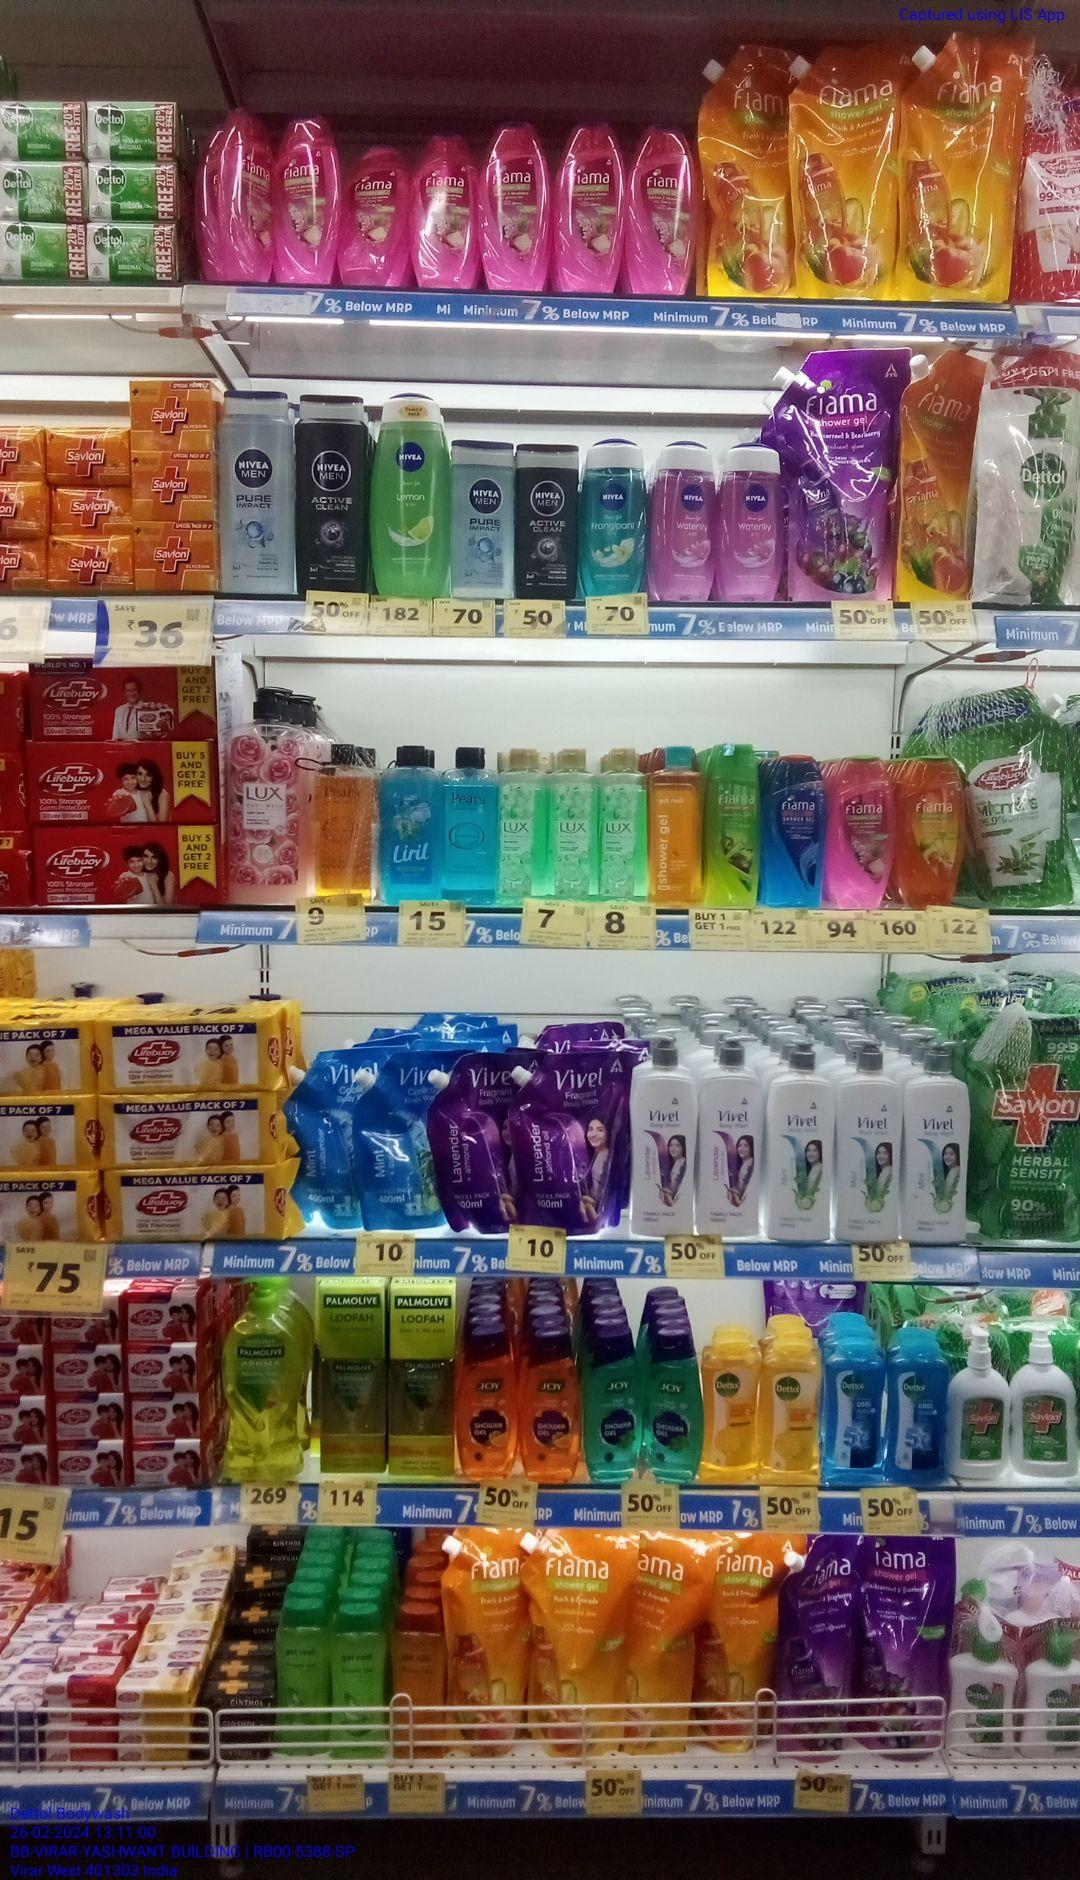Dettol_Bodywash_Cool: (889, 1336, 948, 1486), (829, 1344, 885, 1490)
Dettol_Bodywash_Refresh: (762, 1335, 823, 1487), (707, 1330, 760, 1490)
Fiama_Shower_Gel_Lemongrass_and_Jojoba_250ML: (705, 739, 760, 909)
Fiama_Shower_Gel_Patchouli_and_Macadamia_250ML: (482, 127, 552, 291), (629, 123, 694, 300), (559, 114, 621, 296), (275, 108, 337, 285), (828, 753, 897, 910), (410, 130, 475, 285), (345, 134, 408, 291), (222, 102, 273, 288)
Fiama_Shower_Gel_Peach_and_Avocado_250ML: (902, 753, 966, 909)
Get_Real_Shower_Gel_Moisturising_Glycerin_300ML: (389, 1605, 446, 1765)
Joy_Shower_Gel_Mandarin_and_Lemongrass_250ML: (456, 1323, 517, 1480), (523, 1326, 580, 1487)
Joy_Shower_Gel_Mint_and_Eucalyptus_250ML: (588, 1329, 642, 1482), (646, 1329, 698, 1486)
Liril_Cooling_Mint_Body_Wash_250ML: (380, 745, 439, 905)
Lux_Body_Wash_Skin_Detox_Freesia_Scent_and_Alove_Vera_245ML: (546, 742, 594, 899), (598, 749, 645, 901), (503, 744, 544, 908)
Nivea_Shower_Gel_Frangipani_and_Oil_250ML: (580, 431, 650, 597)
Nivea_Shower_Gel_Lemon_and_Oil_250ML: (371, 391, 448, 595)
Nivea_Shower_Gel_Waterlily_and_Oil_250ML: (718, 438, 782, 608), (656, 436, 712, 607)
Pears_Pure_Glycerin_and_Mint_Extracts_Body_Wash_250ML: (444, 741, 496, 901)
